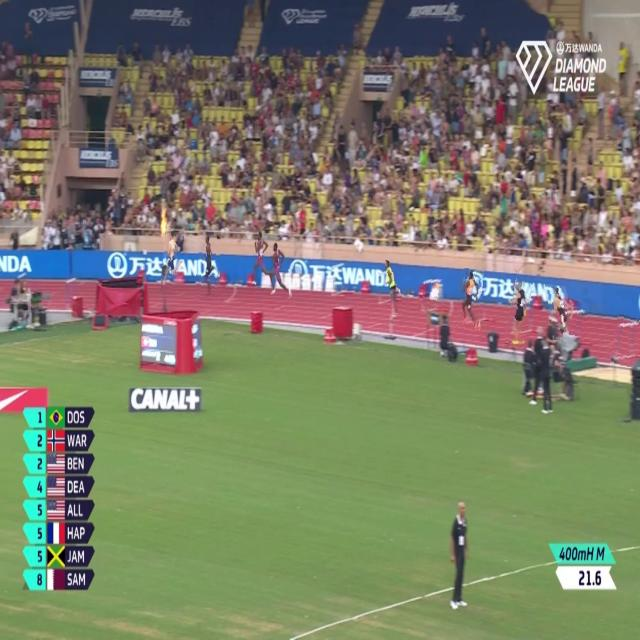athlete: (507, 275, 531, 349), (197, 232, 220, 303), (457, 268, 482, 332), (547, 281, 574, 339), (268, 237, 293, 299), (162, 226, 184, 294), (380, 253, 402, 315), (252, 222, 270, 292)
hurdle: (612, 312, 638, 366), (563, 301, 588, 343), (422, 275, 445, 315)
